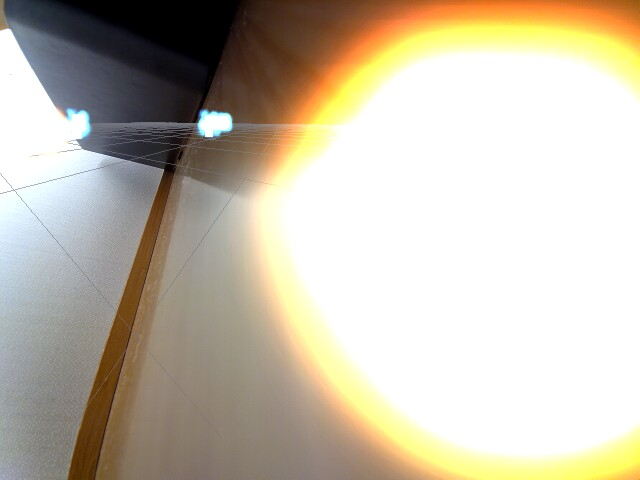firebig: (255, 10, 640, 480)
